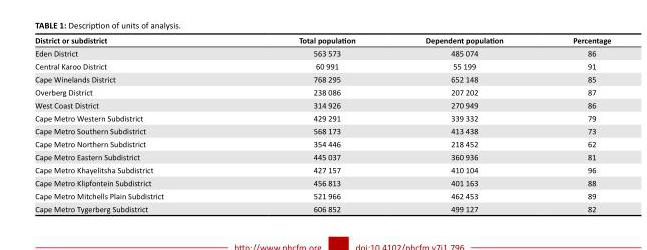table: (34, 34, 610, 213)
table column: (34, 34, 230, 213), (230, 34, 389, 213), (389, 34, 537, 213), (537, 34, 610, 213)
table column header: (34, 34, 610, 47)
table row: (34, 34, 610, 47), (34, 59, 610, 72), (34, 72, 610, 85), (34, 85, 610, 98), (34, 98, 610, 111), (34, 111, 610, 124), (34, 124, 610, 137), (34, 137, 610, 150), (34, 150, 610, 163), (34, 163, 610, 176), (34, 176, 610, 189), (34, 189, 610, 202), (34, 47, 610, 59), (34, 202, 610, 213)
